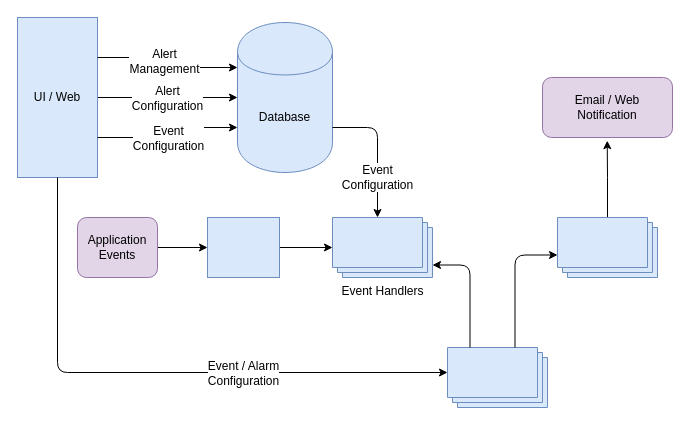
The diagram is 690 pixels wide and 446 high, and some of its shapes have lost their labels. The shapes that lost their labels are listed below. From the top down, each one's centre as x and y in pixels, then its label:
(x=243, y=247): Event Dispatcher
(x=607, y=247): Alert Handlers
(x=497, y=377): Event Plugins
